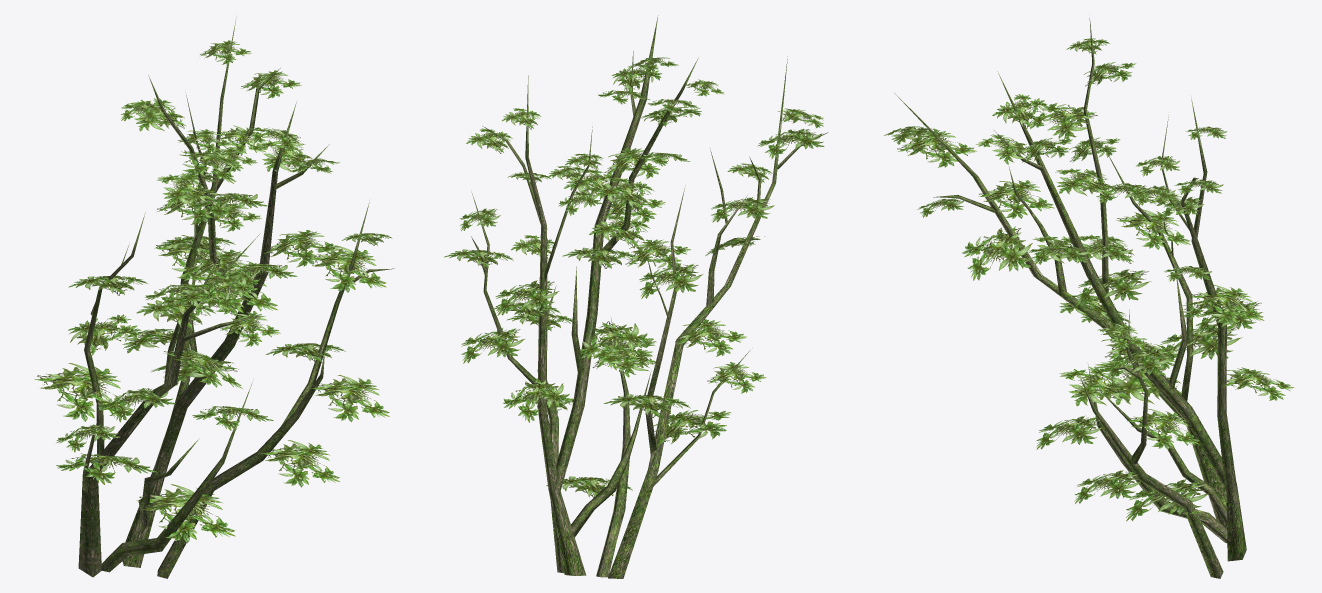
Rendered from S_Tree_Green047.FBX.
The picture shows the model from 3 angles, left to right: view 1: azimuth 30°, elevation 25°; view 2: azimuth 150°, elevation 25°; view 3: azimuth 270°, elevation 25°; orthographic projection. The views are drawn at different scales.
Parts seen in each view (by area): view 1: S_Tree_Green047; view 2: S_Tree_Green047; view 3: S_Tree_Green047.
Part boxes in pixels (x1,y1,x2,y2): S_Tree_Green047: [34, 16, 394, 578]; S_Tree_Green047: [444, 15, 828, 578]; S_Tree_Green047: [884, 18, 1294, 578].
Bounding box in the file's own units: 262 × 290 × 384.
